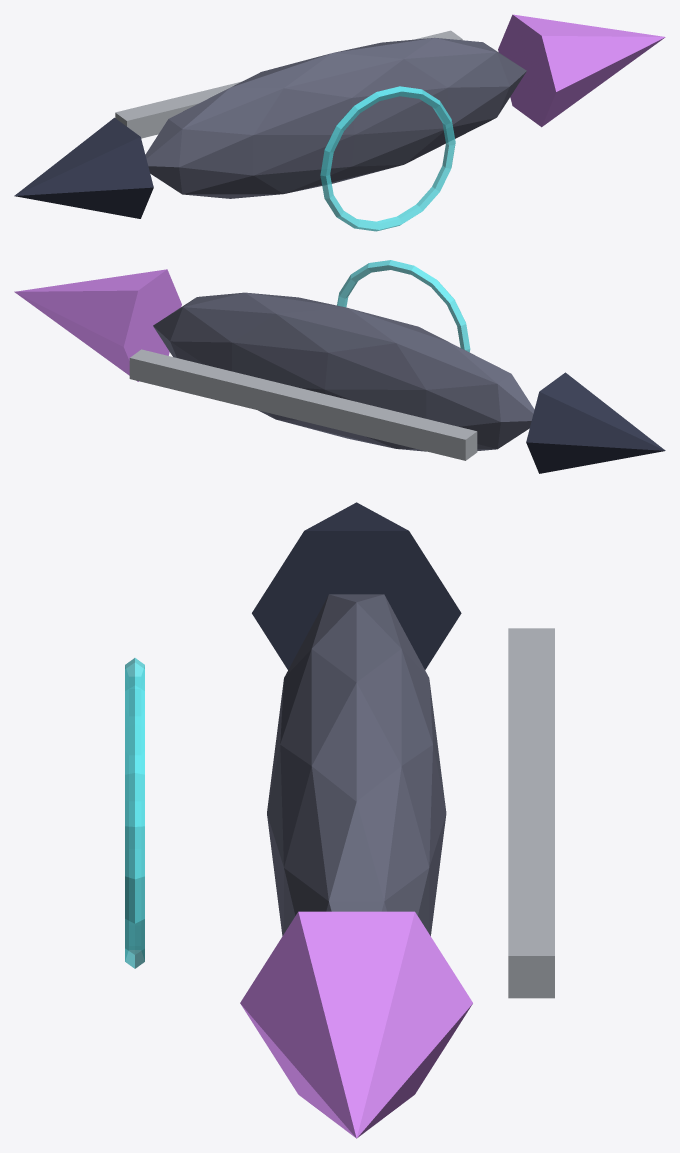
The model's file is 05_skyship_hull.glb.
The picture shows the model from 3 angles, top to bottom: view 1: azimuth 30°, elevation 25°; view 2: azimuth 150°, elevation 25°; view 3: azimuth 270°, elevation 25°; orthographic projection. The views are drawn at different scales.
Parts seen in each view (by area): view 1: hull_low_poly, bow_upgrade, stern_fin, size_class_ring, keel_plate; view 2: hull_low_poly, keel_plate, bow_upgrade, stern_fin, size_class_ring; view 3: hull_low_poly, bow_upgrade, keel_plate, stern_fin, size_class_ring.
Part boxes in pixels (x1,y1,x2,y2): hull_low_poly: [145, 37, 526, 198]; bow_upgrade: [498, 14, 665, 127]; stern_fin: [14, 117, 153, 218]; size_class_ring: [320, 86, 455, 231]; keel_plate: [115, 30, 462, 138]; hull_low_poly: [153, 292, 534, 451]; keel_plate: [129, 349, 477, 460]; bow_upgrade: [14, 269, 181, 381]; stern_fin: [526, 372, 665, 473]; size_class_ring: [337, 260, 470, 352]; hull_low_poly: [267, 594, 446, 935]; bow_upgrade: [240, 911, 472, 1138]; keel_plate: [508, 628, 554, 998]; stern_fin: [252, 502, 461, 669]; size_class_ring: [125, 658, 144, 968].
Bounding box in the file's own units: 2.58 × 0.5279 × 0.7371.
